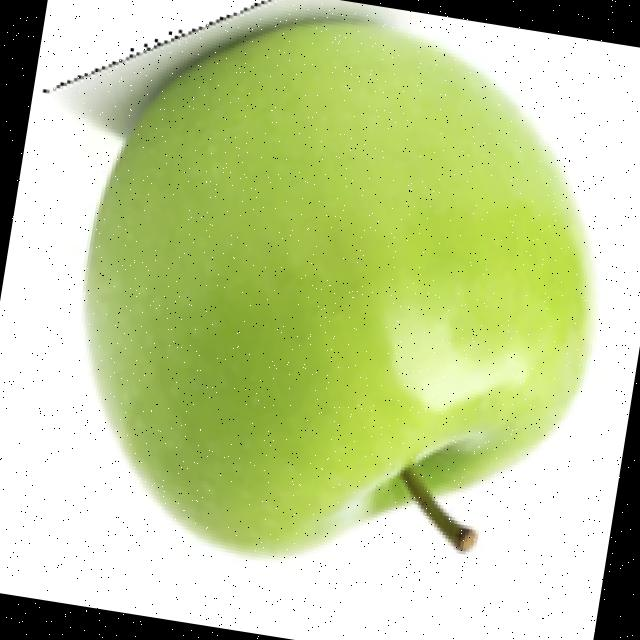apple: (49, 0, 602, 566)
